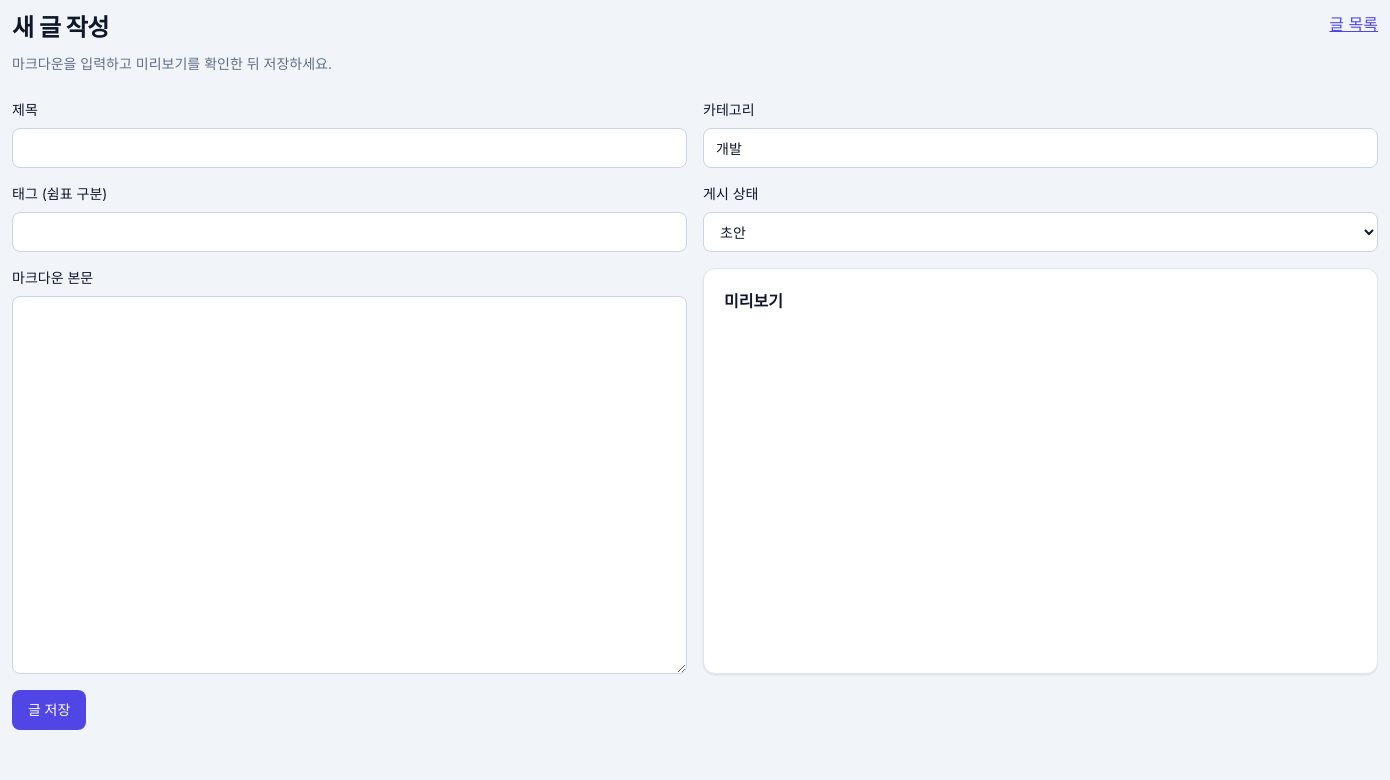
Test: CMS workspace › preserves an editor draft when saving fails
This screenshot has width=1390, height=780.
Type "보존할 글" into the field labelled "제목".
click(350, 148); type("보존할 글")  # box [12,128,687,168]
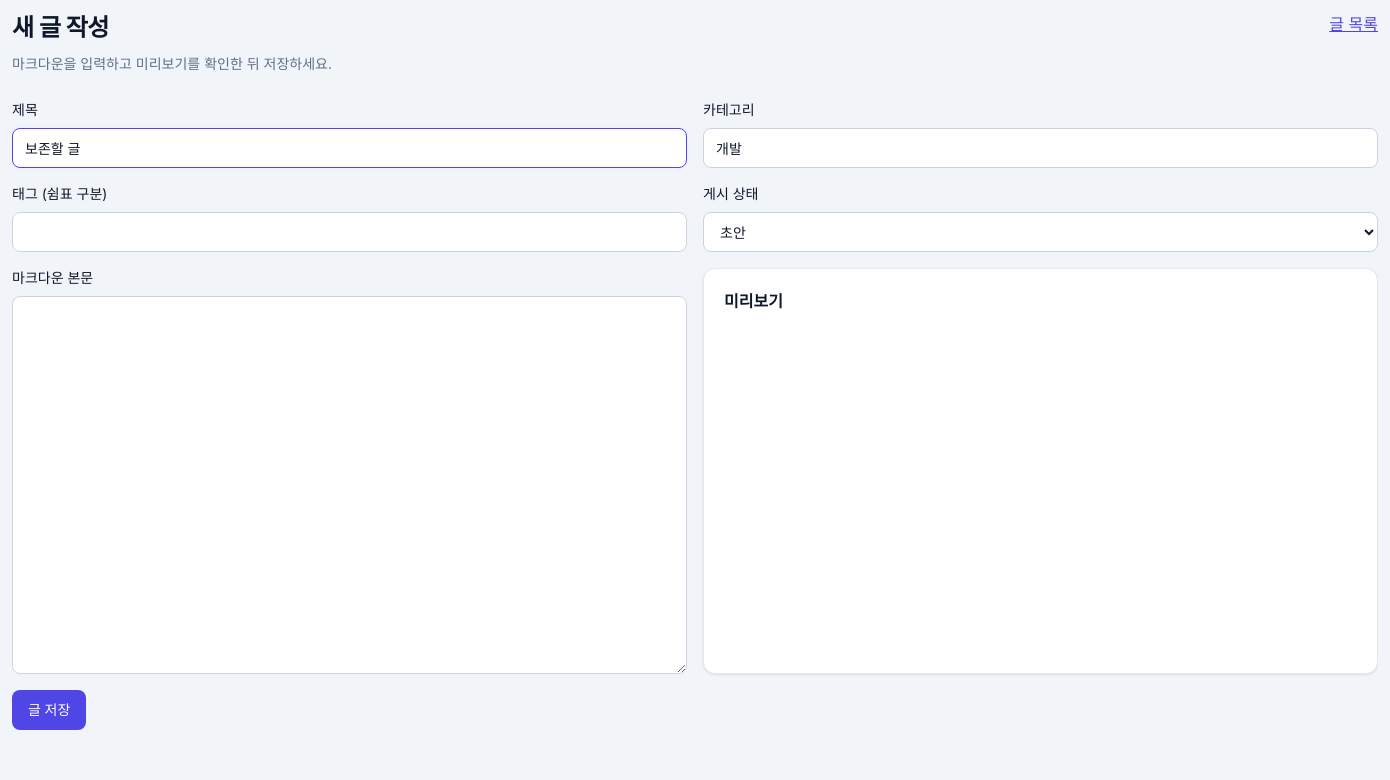
Type "본문" into the text box labelled "마크다운 본문".
click(350, 485); type("본문")  # box [12,296,687,674]
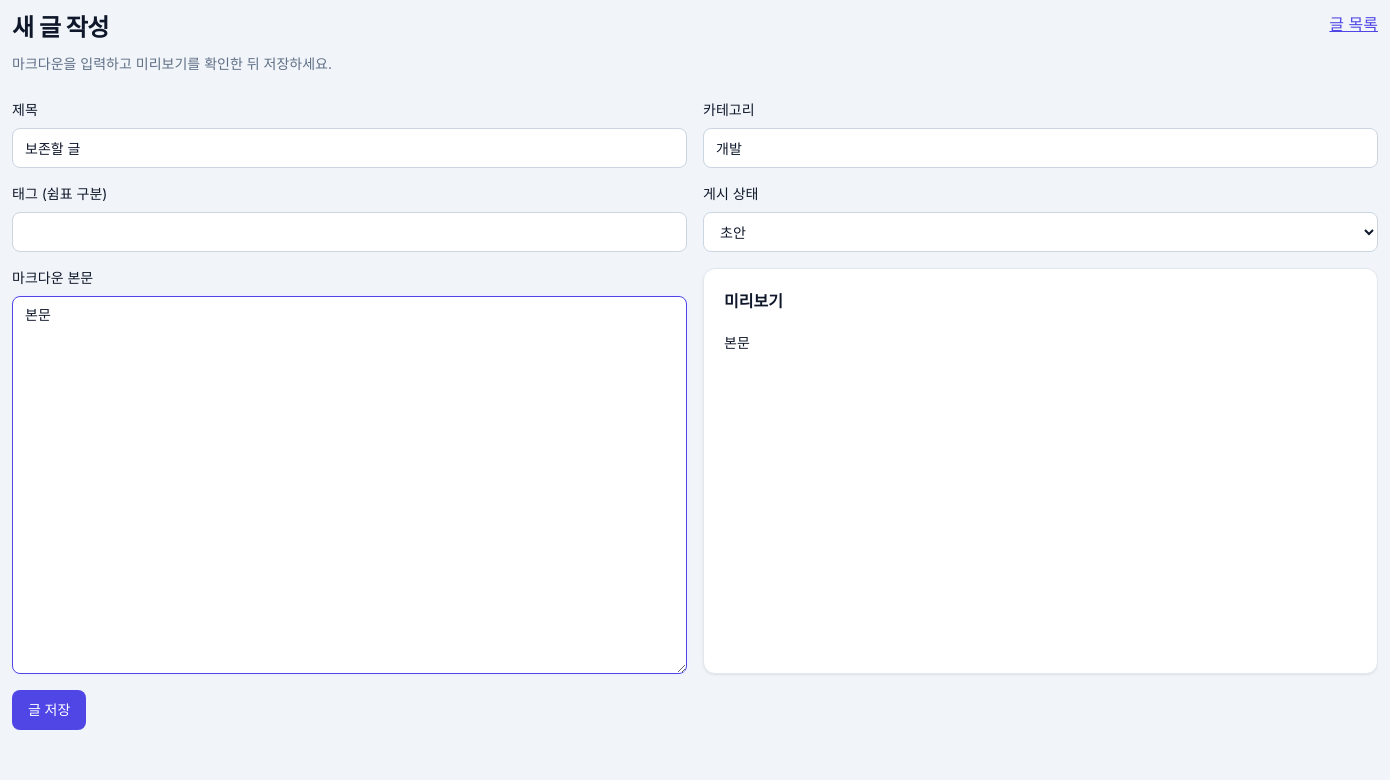
Click the button "글 저장".
click(49, 710)  # box [12,690,86,730]
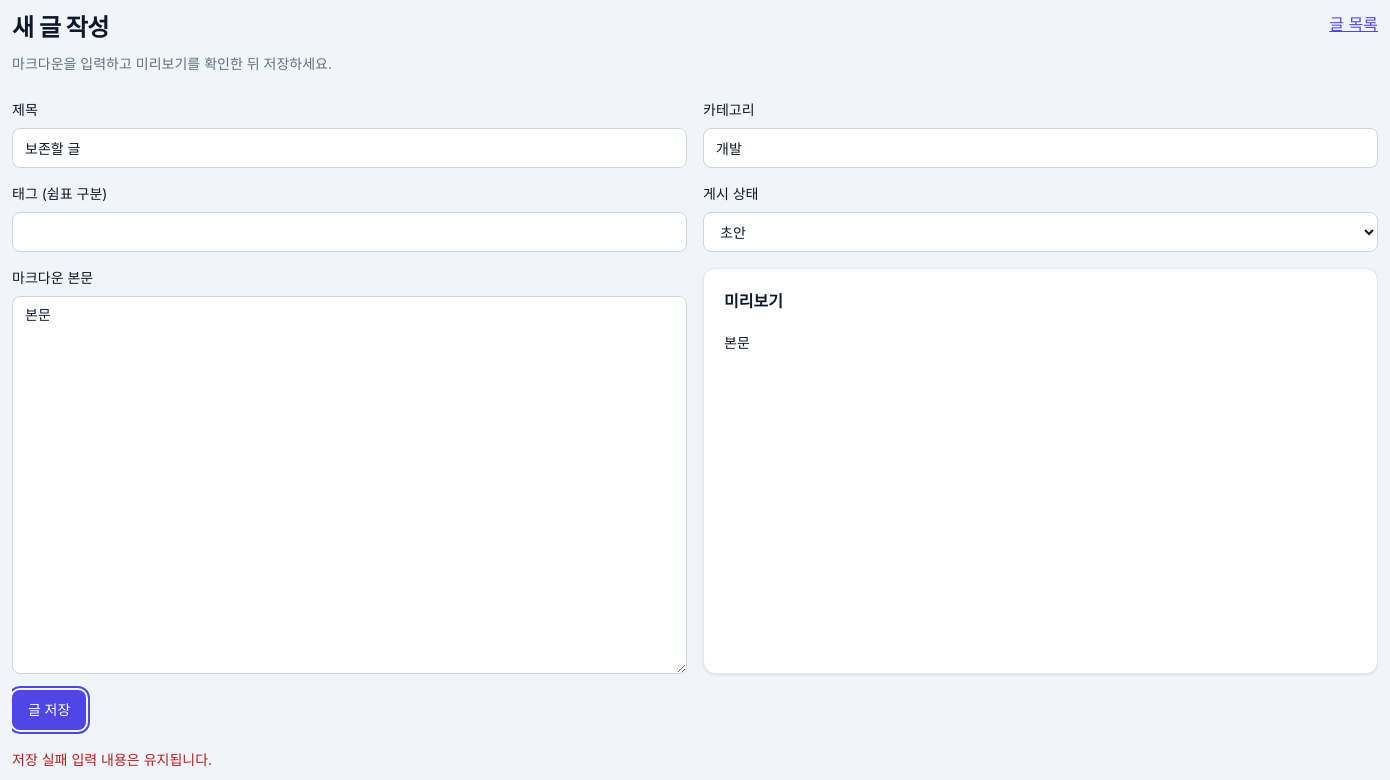
Expected: the message shows "저장 실패", [12,751,68,768]
